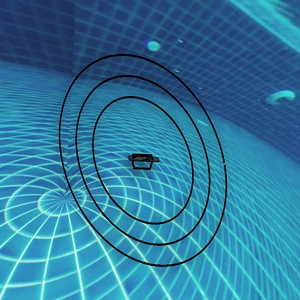circle: (56, 45, 235, 275)
